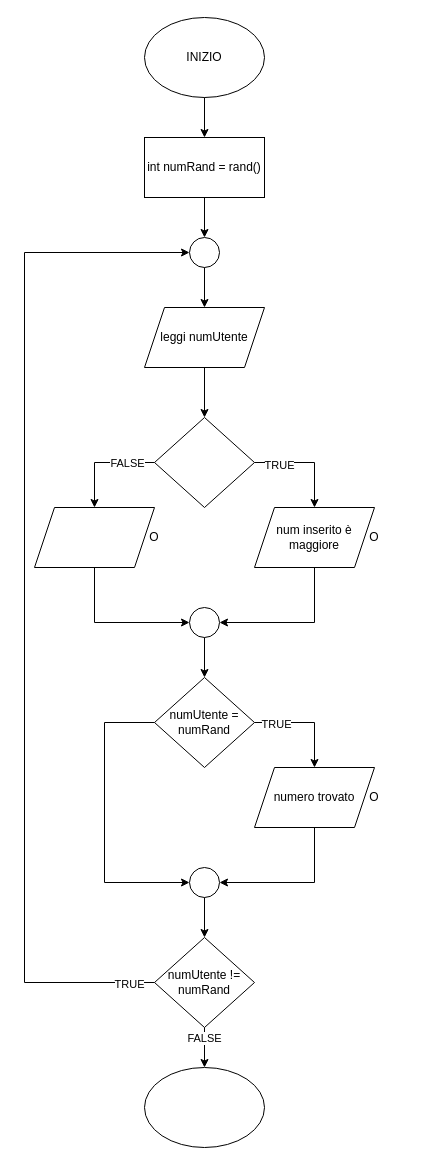
Some shapes in this 422 by 1165 pixel diagram are drawn without their labels. The box of each missing label's shape, as (x1, y1, x2, y2) in pixels:
FINE: (144, 1066, 264, 1148)
num inserito è minore: (34, 506, 154, 568)
numUtente > numRand: (154, 416, 254, 508)
